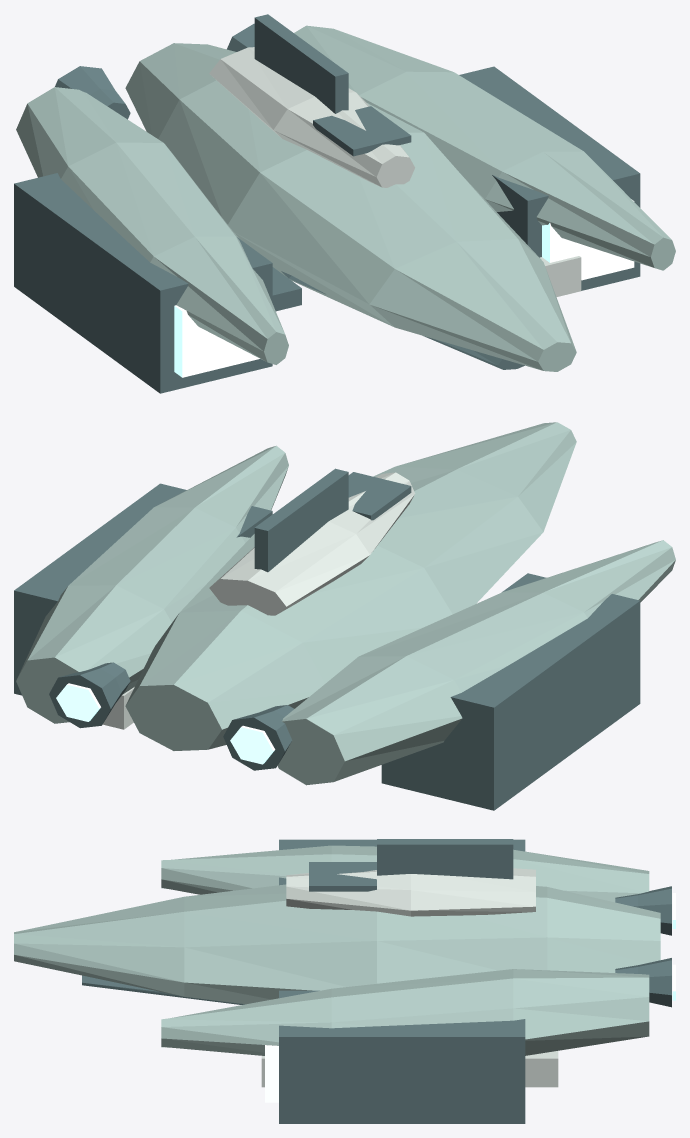
3 views of the same model, one above another, from view 1: azimuth 30°, elevation 25°; view 2: azimuth 150°, elevation 25°; view 3: azimuth 270°, elevation 25° (orthographic). The views are drawn at different scales.
Size of the model in its own units: 13.65 by 5.91 by 19.34.
